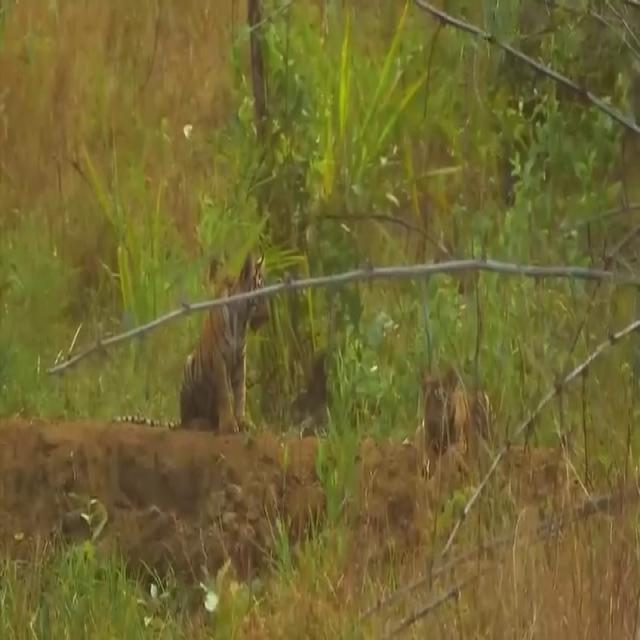tiger: (113, 247, 272, 433), (413, 360, 500, 488)
